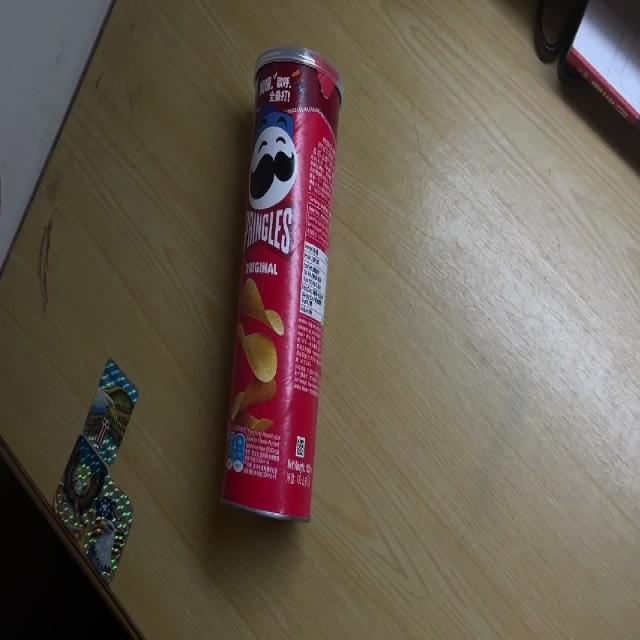Pringles: (224, 48, 343, 521)
